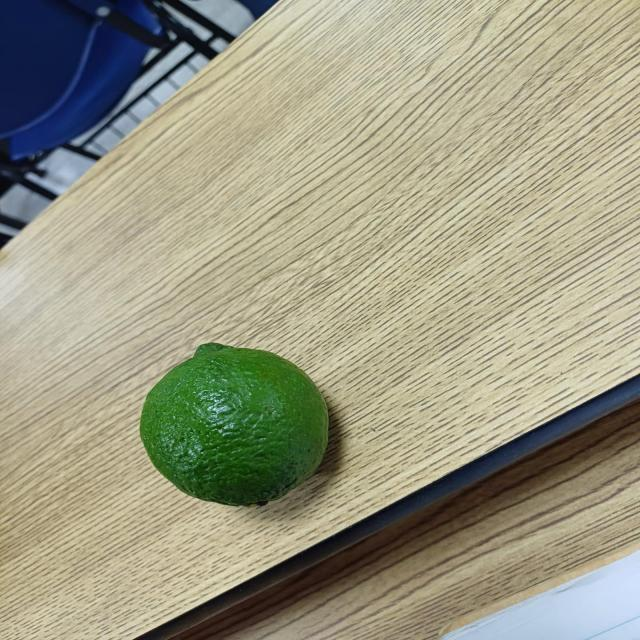Lemon: (129, 331, 347, 517)
